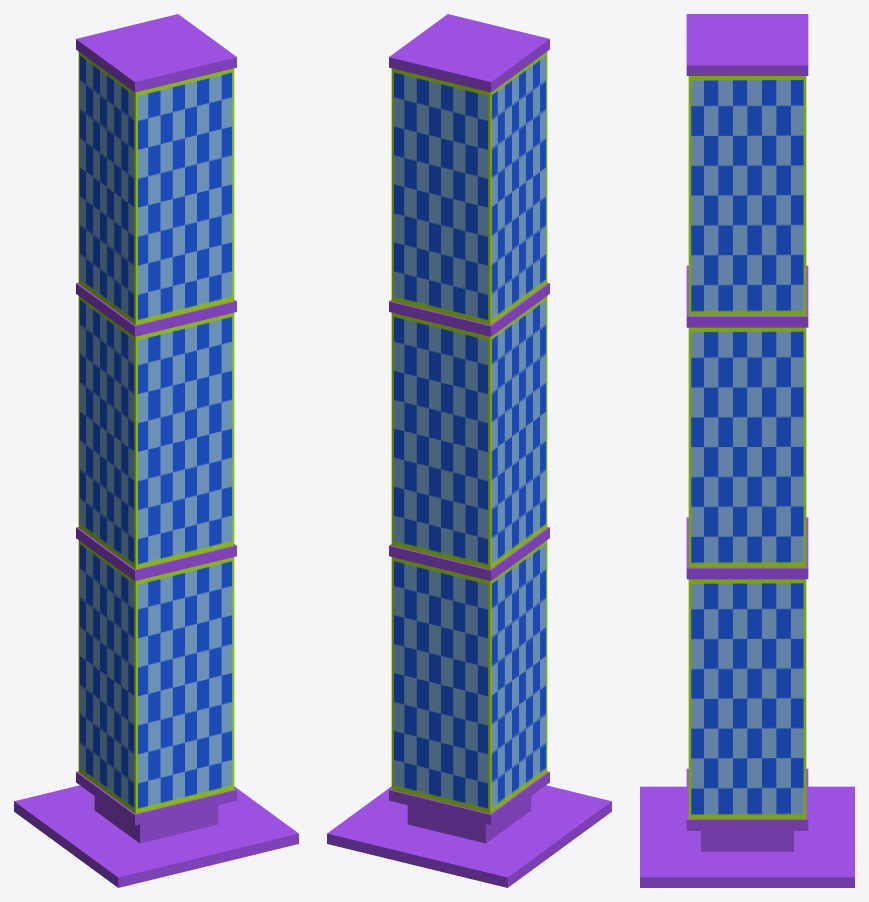
File: LightFloor01_2.FBX
3 renders of one model, left to right at view 1: azimuth 30°, elevation 25°; view 2: azimuth 150°, elevation 25°; view 3: azimuth 270°, elevation 25°, orthographic. The views are drawn at different scales.
Visible parts, largest first — view 1: LightFloor01_2; view 2: LightFloor01_2; view 3: LightFloor01_2.
Boxes of the visible parts, x1=… form: LightFloor01_2: x1=14, y1=14, x2=298, y2=887; LightFloor01_2: x1=327, y1=14, x2=611, y2=887; LightFloor01_2: x1=640, y1=14, x2=854, y2=887.
Bounding box in the file's own units: 36.35 × 150 × 36.35.
